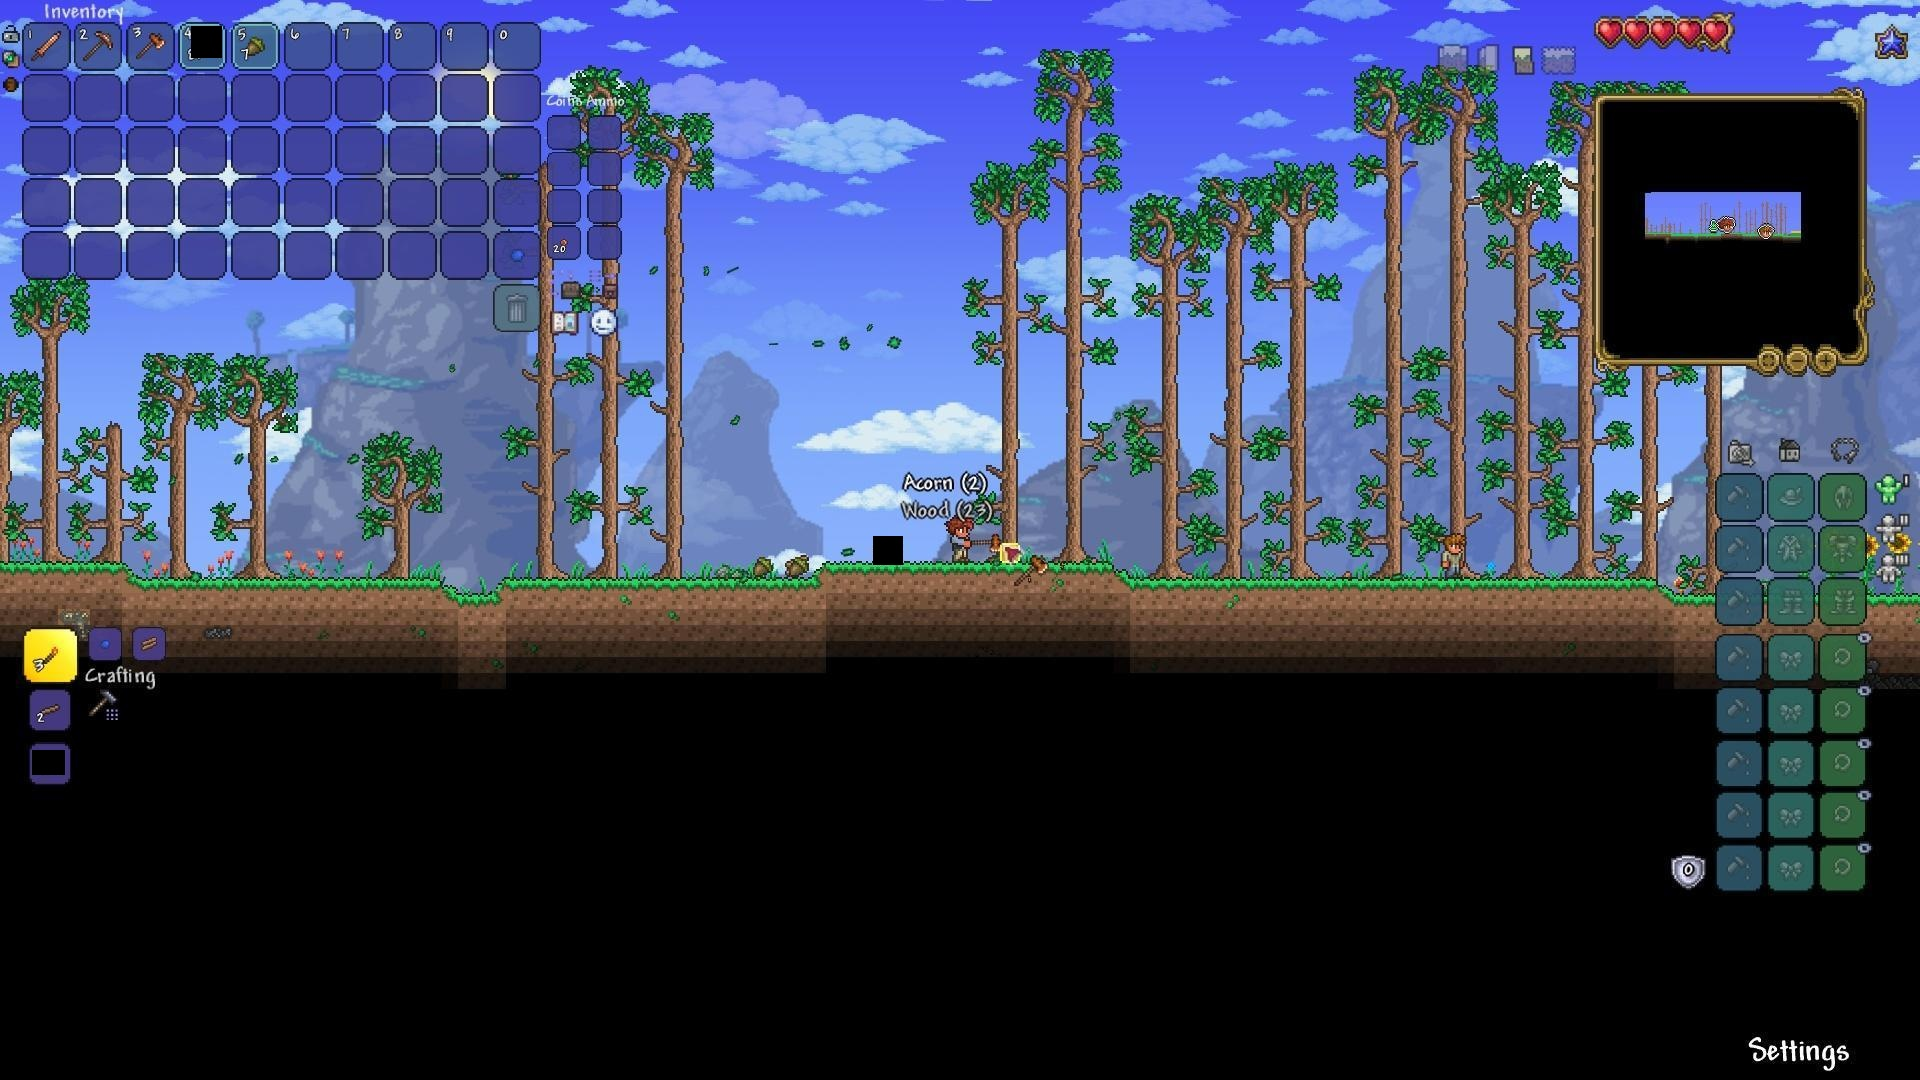wood: (136, 632, 161, 655)
